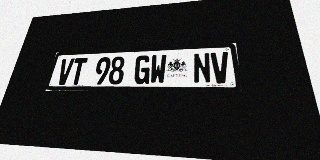8: (108, 56, 126, 84)
9: (93, 57, 112, 85)
G: (133, 55, 151, 84)
N: (193, 53, 211, 84)
T: (69, 58, 88, 85)
V: (210, 52, 231, 83), (56, 58, 75, 85)
W: (149, 54, 167, 84)
